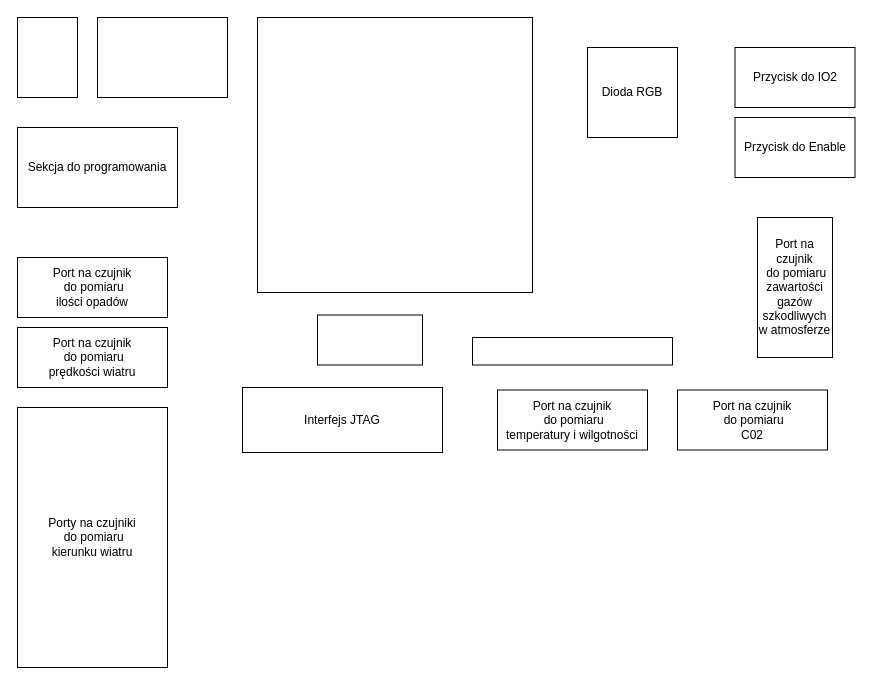
The diagram is 873 pixels wide and 685 high, and some of its shapes have lost their labels. Each missing label, with the box of its shape:
Czujnik ciiśnienia: (316, 314, 422, 365)
ESP32: (256, 16, 532, 292)
Interfejs programowania UART: (472, 336, 672, 365)
Port do zasilania +5V: (16, 16, 78, 98)
Sekcja zasiilaniia oraz regulator liniowy z +5V na +3V3: (96, 16, 228, 98)
